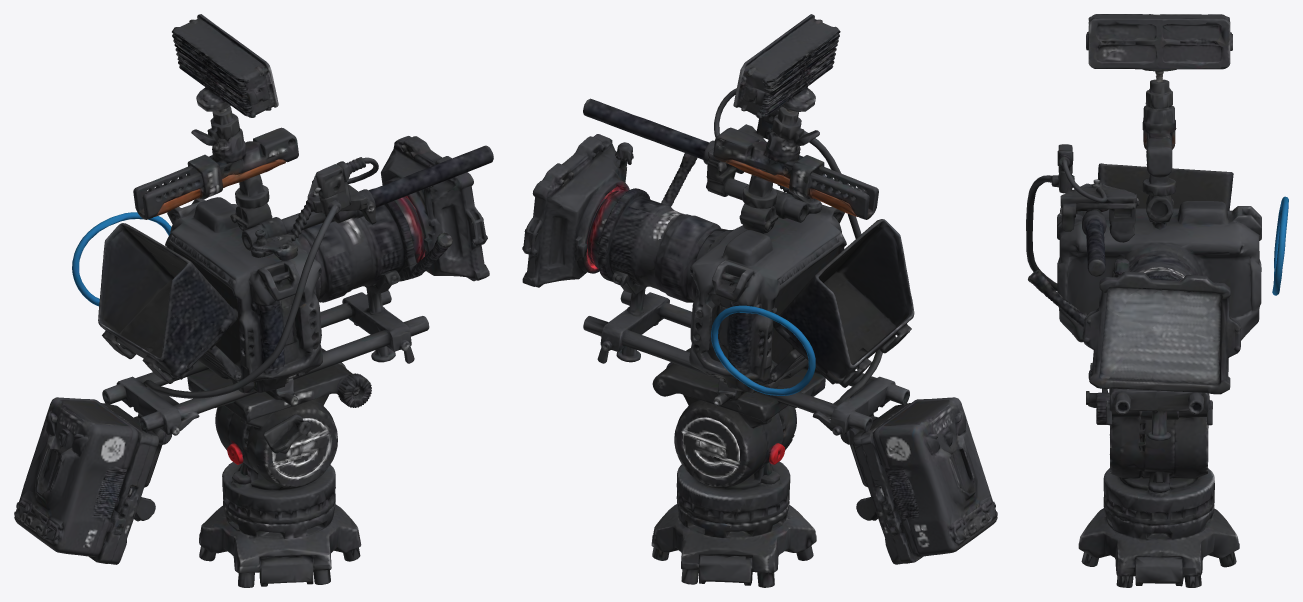
The model's file is kinokamera.glb.
The picture shows the model from 3 angles, left to right: view 1: azimuth 30°, elevation 25°; view 2: azimuth 150°, elevation 25°; view 3: azimuth 270°, elevation 25°; orthographic projection. The views are drawn at different scales.
Parts seen in each view (by area): view 1: tripo_node_5f83bcd8-9c49-4f39-9249-144a4770c40f; view 2: tripo_node_5f83bcd8-9c49-4f39-9249-144a4770c40f; view 3: tripo_node_5f83bcd8-9c49-4f39-9249-144a4770c40f.
Part boxes in pixels (x1,y1,x2,y2): tripo_node_5f83bcd8-9c49-4f39-9249-144a4770c40f: (14, 14, 493, 587); tripo_node_5f83bcd8-9c49-4f39-9249-144a4770c40f: (522, 14, 997, 587); tripo_node_5f83bcd8-9c49-4f39-9249-144a4770c40f: (1026, 14, 1288, 587).
Bounding box in the file's own units: 0.821 × 0.9799 × 0.4476.
Materials: 1 (1 with a texture image).
